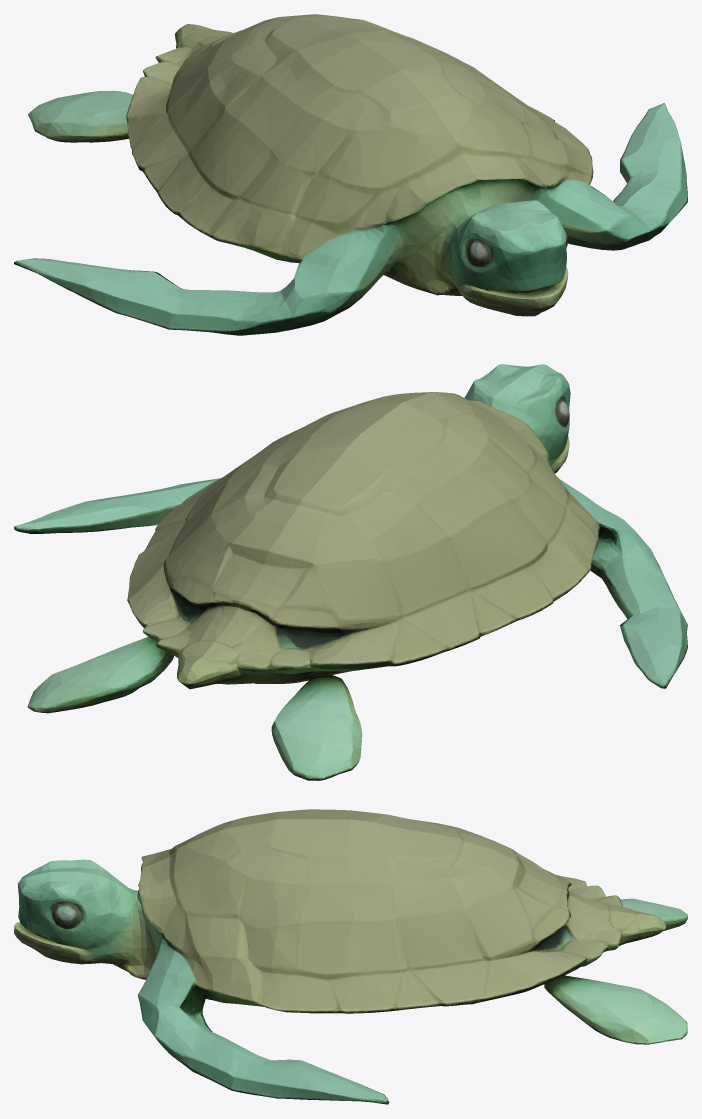
3 renders of one model, top to bottom at view 1: azimuth 30°, elevation 25°; view 2: azimuth 150°, elevation 25°; view 3: azimuth 270°, elevation 25°, orthographic. The views are drawn at different scales.
Visible parts, largest first — view 1: geometry_0; view 2: geometry_0; view 3: geometry_0.
Boxes of the visible parts, x1=… form: geometry_0: x1=14, y1=14, x2=687, y2=335; geometry_0: x1=14, y1=364, x2=687, y2=780; geometry_0: x1=14, y1=809, x2=687, y2=1104.
Bounding box in the file's own units: 0.9941 × 0.2719 × 1.
1 material, 1 textured.
